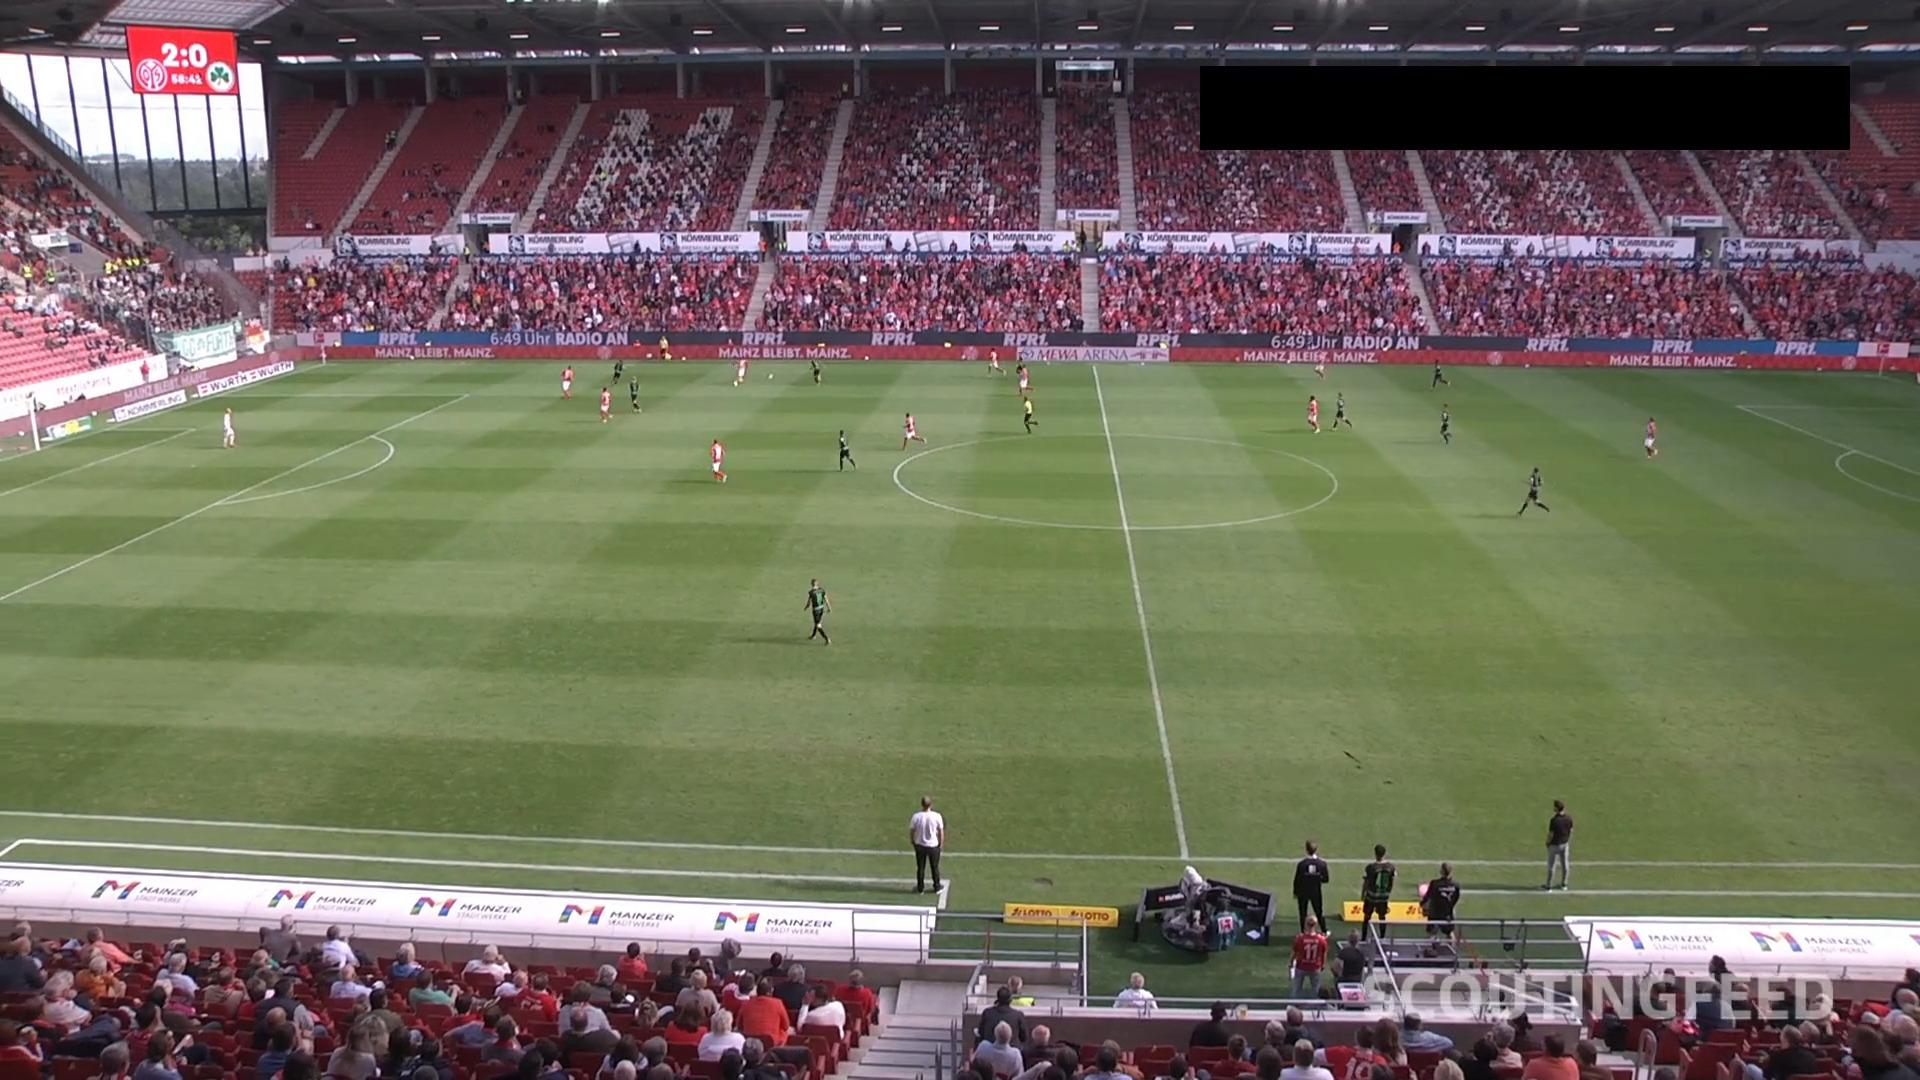ball: (766, 371, 774, 379)
keeper: (222, 407, 235, 447)
player: (1513, 467, 1552, 519), (804, 578, 833, 647), (901, 410, 928, 451), (1331, 390, 1353, 432), (708, 438, 728, 483), (838, 428, 858, 473), (987, 346, 1007, 380), (1430, 358, 1451, 390), (1439, 400, 1454, 443), (1306, 393, 1321, 433), (1019, 362, 1036, 397), (628, 375, 643, 413), (599, 384, 613, 423), (1645, 417, 1658, 459), (560, 363, 574, 400), (733, 355, 748, 388), (1314, 349, 1327, 380), (612, 358, 625, 386), (809, 358, 823, 383), (1015, 350, 1026, 377)
referee: (1021, 394, 1039, 434), (657, 334, 672, 362)
